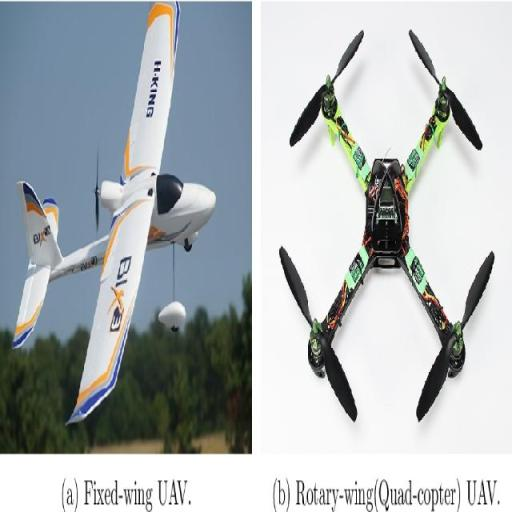uav: (4, 2, 246, 425)
